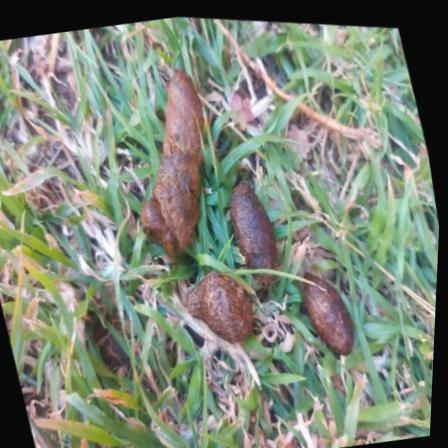dog-poop: (105, 56, 235, 252), (166, 242, 371, 363), (221, 171, 295, 284)
